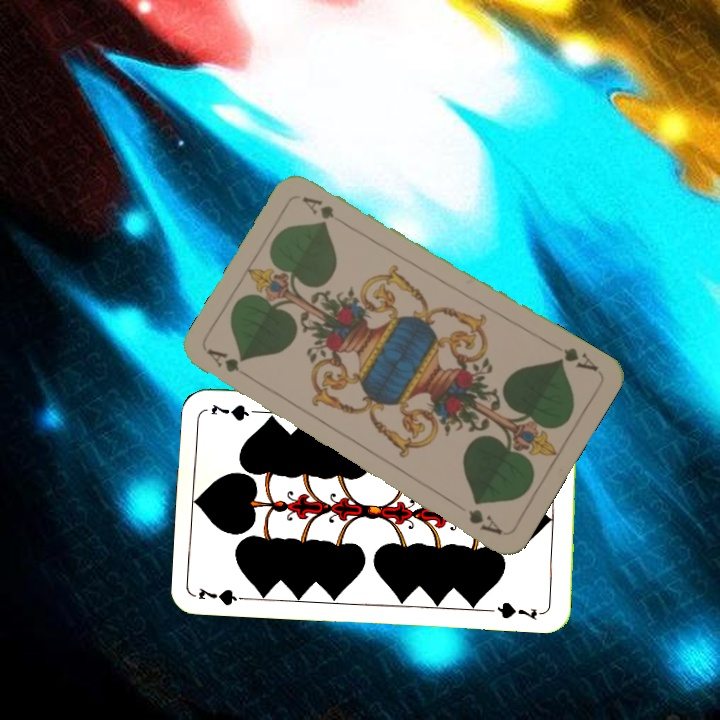G7: (195, 583, 255, 608)
GA: (204, 345, 257, 382), (551, 343, 601, 375)
